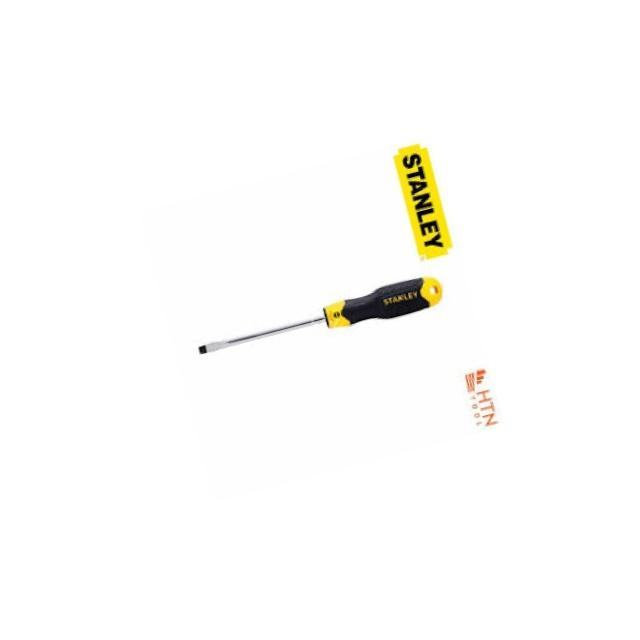screwdriver: (190, 266, 449, 372)
